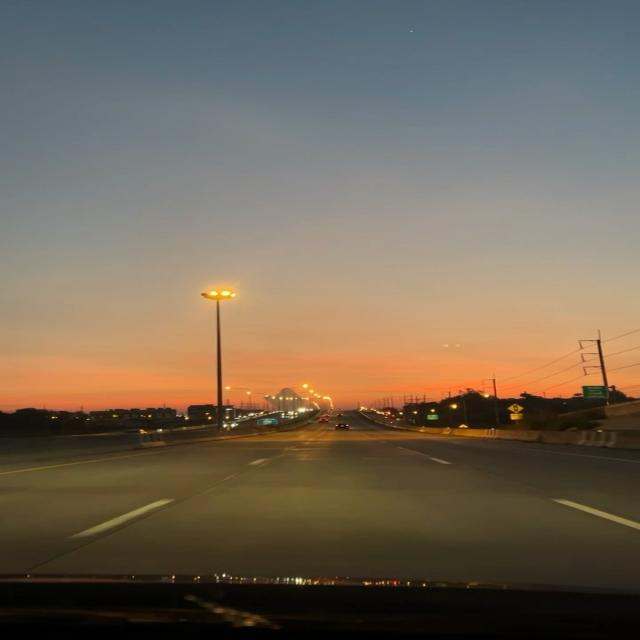Poth-hole: (32, 456, 585, 554)
